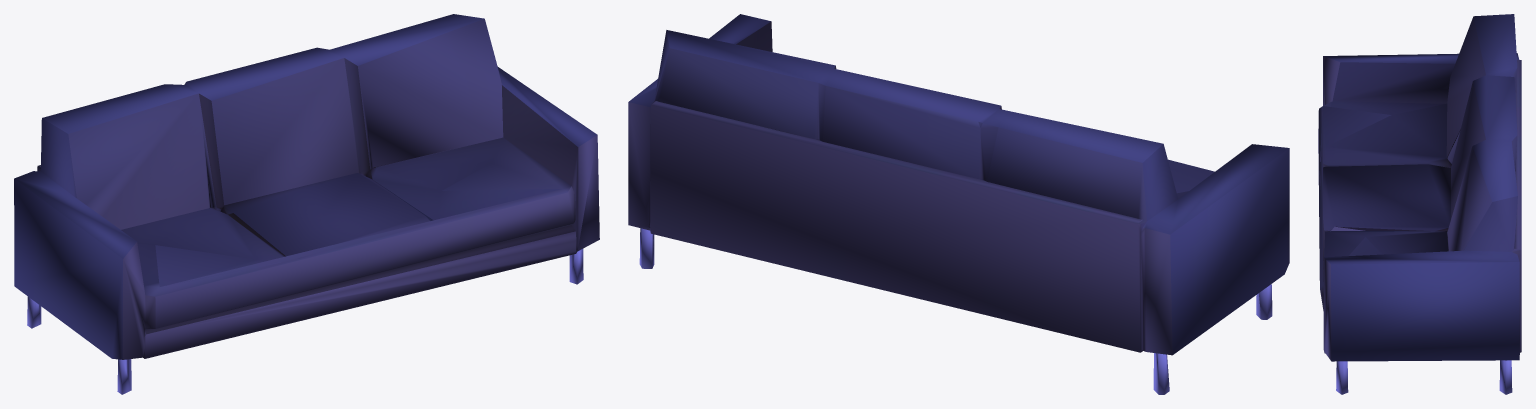
The model's file is model.progressive.glb.
3 views of the same model, side by side, from view 1: azimuth 30°, elevation 25°; view 2: azimuth 150°, elevation 25°; view 3: azimuth 270°, elevation 25° (orthographic). The views are drawn at different scales.
Parts seen in each view (by area): view 1: BreakRoomCouch5; view 2: BreakRoomCouch5; view 3: BreakRoomCouch5.
Boxes of the visible parts, x1,y1,x2,y2 form: BreakRoomCouch5: (14, 14, 599, 394); BreakRoomCouch5: (628, 14, 1289, 394); BreakRoomCouch5: (1318, 14, 1521, 394).
Size of the model in its own units: 1.89 by 0.7646 by 0.7577.
Materials: 1 (1 with a texture image).
